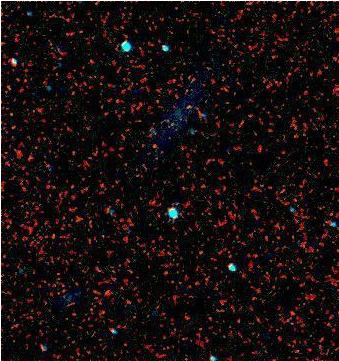star: (137, 130, 167, 160)
